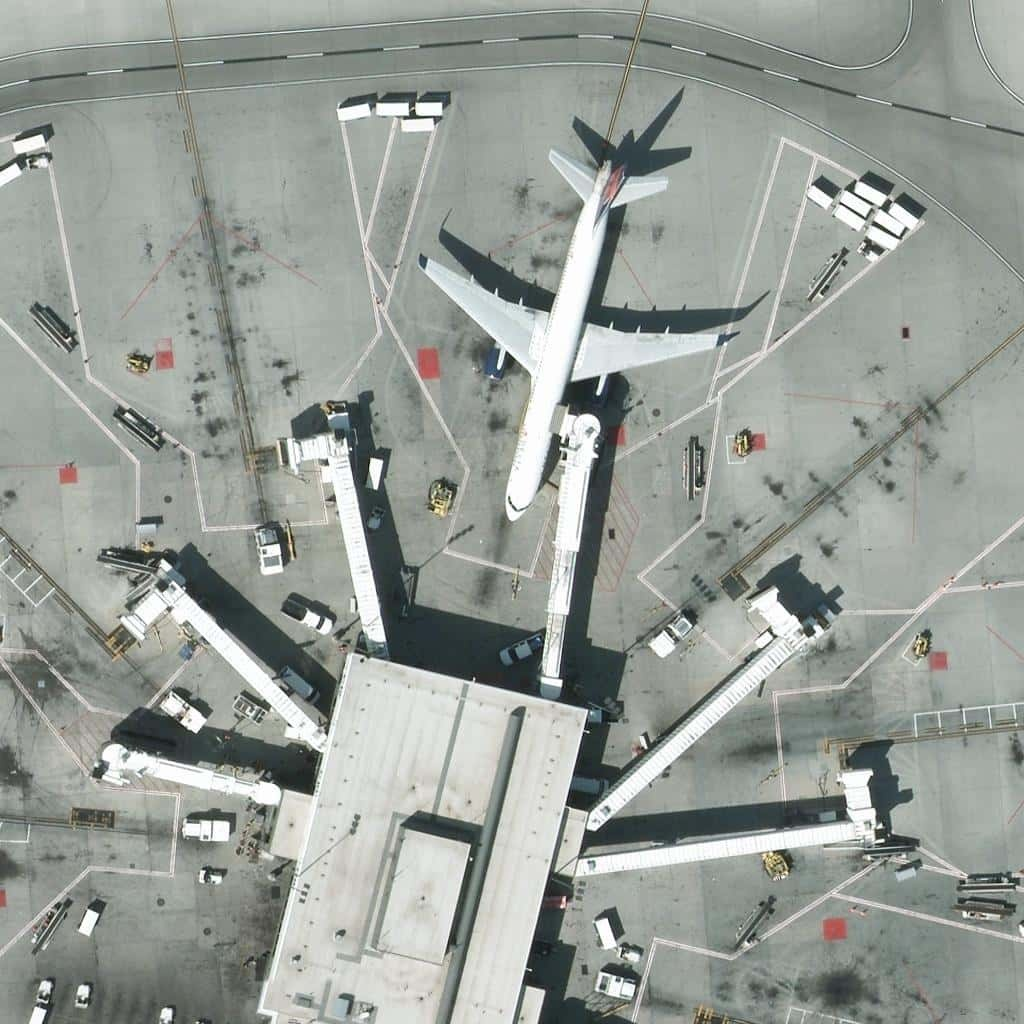plane: (418, 150, 741, 522)
